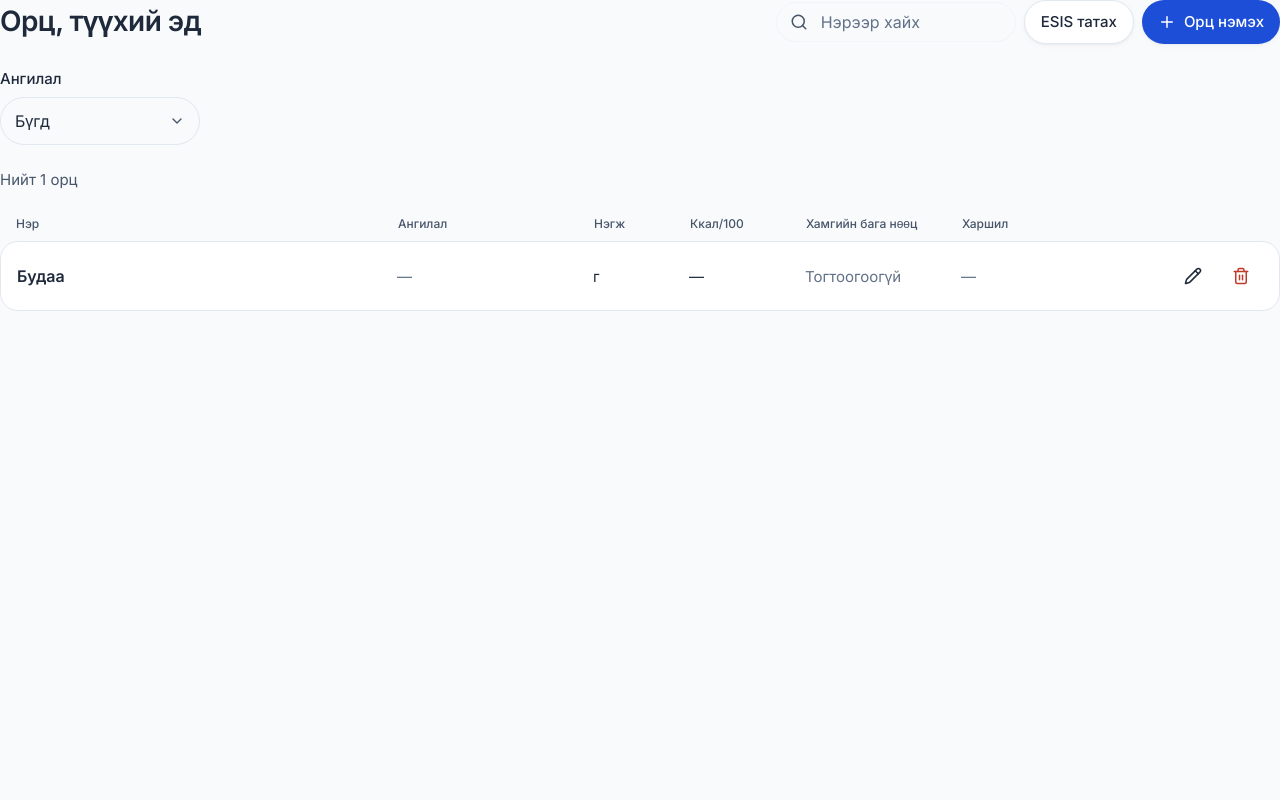
Test case: ESIS-ээс татах on the store list › adds the ticked materials with unit, calories and category, and never a duplicate
Click the button "ESIS татах". click: (1079, 22)
box: [1024, 0, 1134, 44]
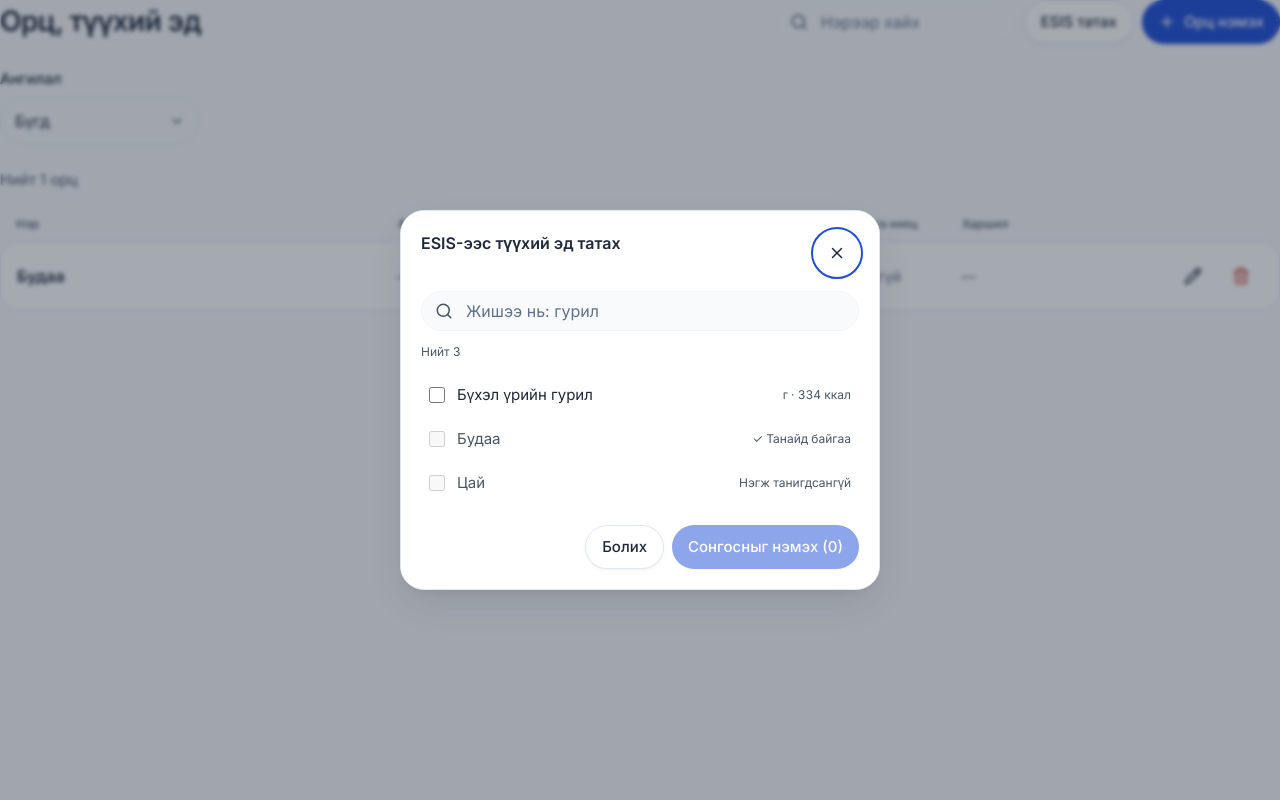
Now the text "г · 334 ккал" is shown, box [783, 386, 851, 404]
Now the checkbox labelled "Будаа ✓ Танайд байгаа" is disabled, box [429, 431, 445, 447]
Now the text "✓ Танайд байгаа" is shown, box [752, 430, 851, 448]
Click the checkbox labelled "Бүхэл үрийн гурил г · 334 ккал". click: (437, 395)
box: [429, 387, 445, 403]
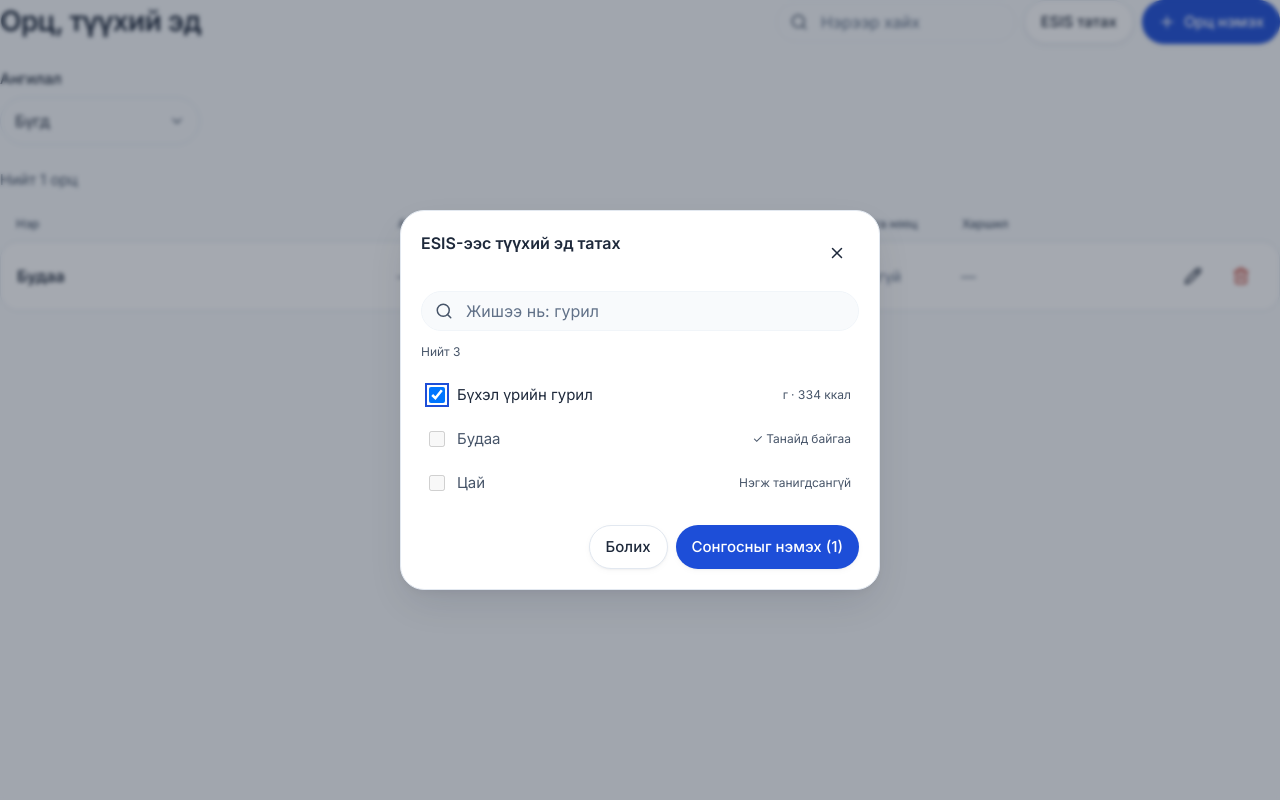
Click the button "Сонгосныг нэмэх (1)". click: (767, 547)
box: [676, 525, 859, 569]
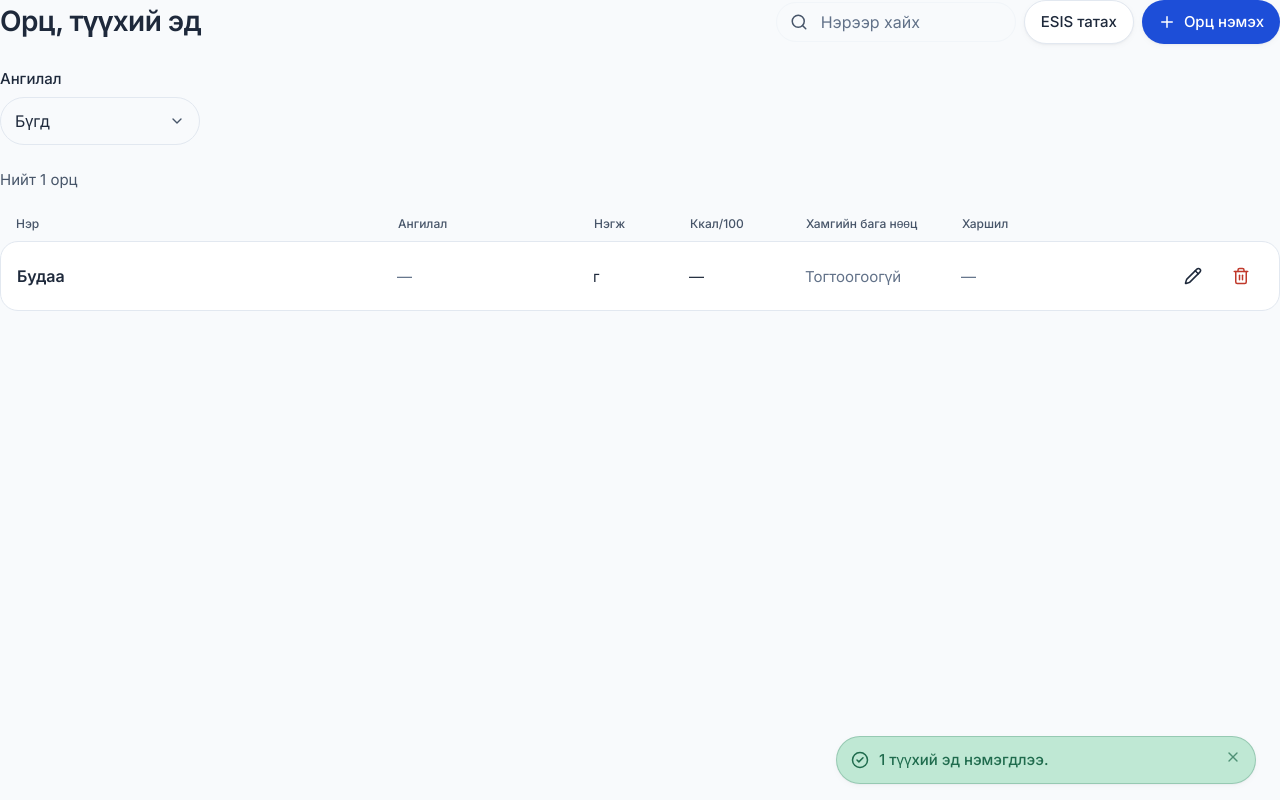
Now the text "1 түүхий эд нэмэгдлээ." is shown, box [879, 750, 1048, 768]
